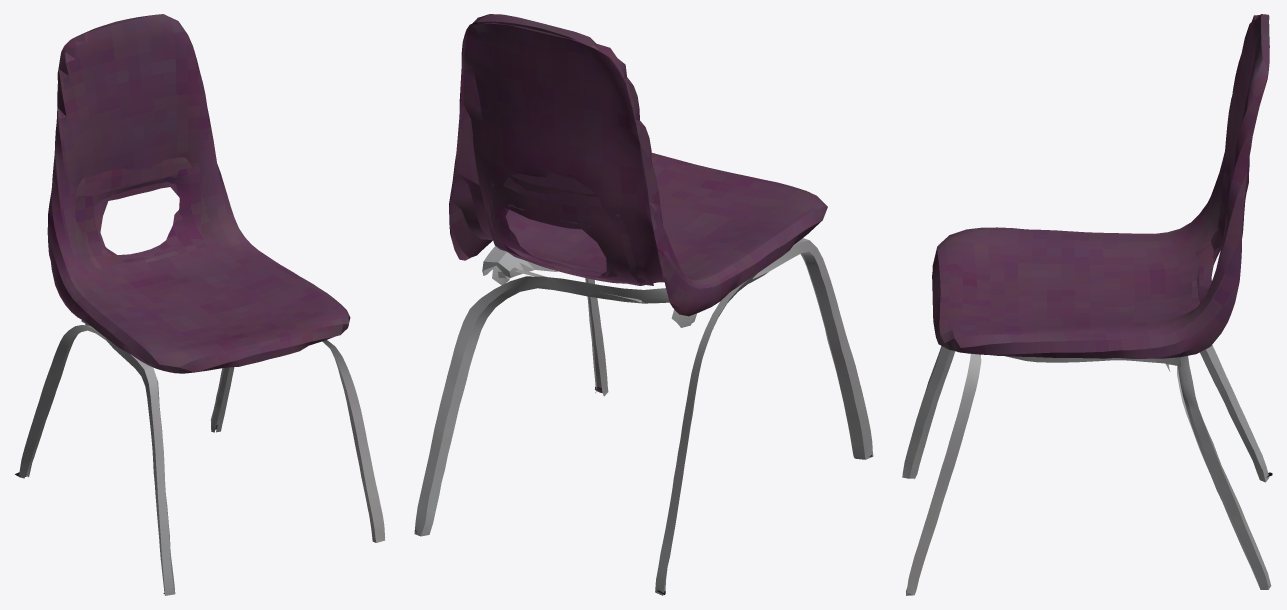
File: testchair.glb
The picture shows the model from 3 angles, left to right: view 1: azimuth 30°, elevation 25°; view 2: azimuth 150°, elevation 25°; view 3: azimuth 270°, elevation 25°; orthographic projection. The views are drawn at different scales.
Parts seen in each view (by area): view 1: objamage_decoded; view 2: objamage_decoded; view 3: objamage_decoded.
Boxes of the visible parts, x1,y1,x2,y2 form: objamage_decoded: (15, 14, 385, 595); objamage_decoded: (414, 14, 873, 595); objamage_decoded: (902, 14, 1272, 595).
Size of the model in its own units: 1.04 by 1.93 by 1.29.
1 material, 1 textured.
